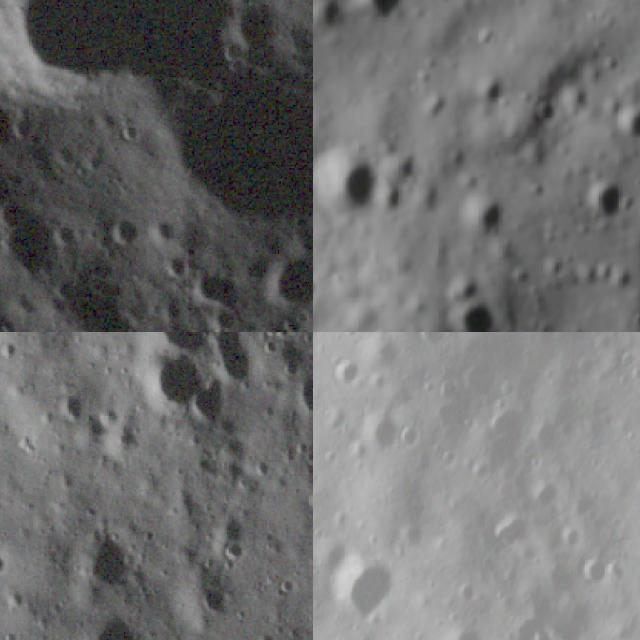crater: (0, 2, 225, 93), (313, 139, 391, 227), (332, 544, 408, 624), (72, 524, 140, 601), (142, 346, 208, 416), (184, 261, 242, 318), (440, 289, 513, 332), (261, 250, 313, 310), (458, 193, 513, 248), (580, 174, 628, 236), (481, 506, 533, 556), (75, 610, 158, 640), (524, 473, 566, 520), (578, 548, 629, 586), (353, 0, 410, 33), (526, 94, 572, 130), (144, 332, 217, 354), (196, 577, 236, 617), (607, 106, 640, 154), (329, 352, 366, 390), (55, 388, 93, 424), (445, 612, 491, 640), (474, 73, 504, 111), (296, 368, 313, 419), (412, 332, 456, 348), (0, 544, 13, 581)
